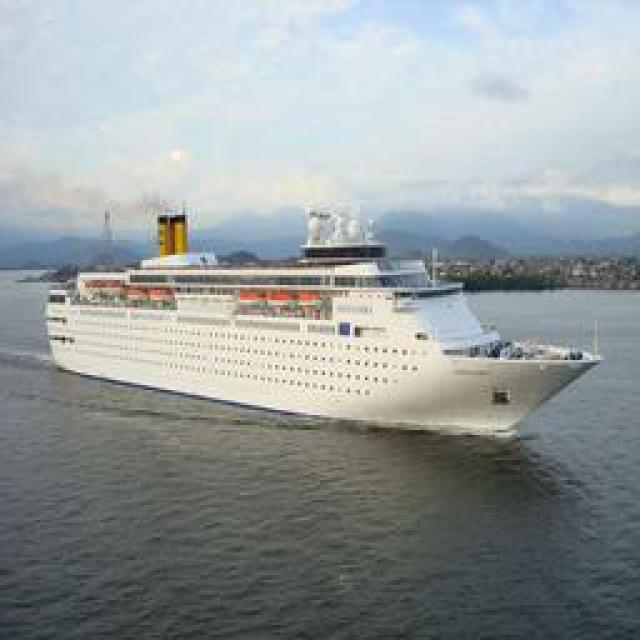Ship: (26, 263, 616, 438)
